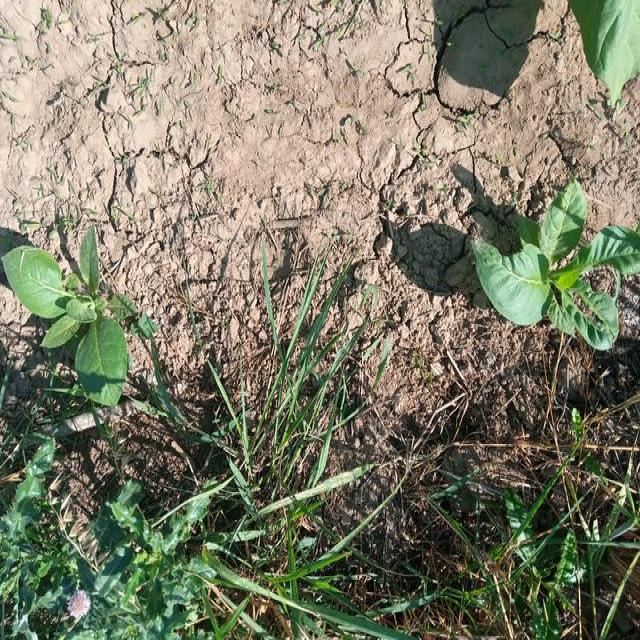crop: (0, 219, 152, 412), (470, 186, 640, 350)
